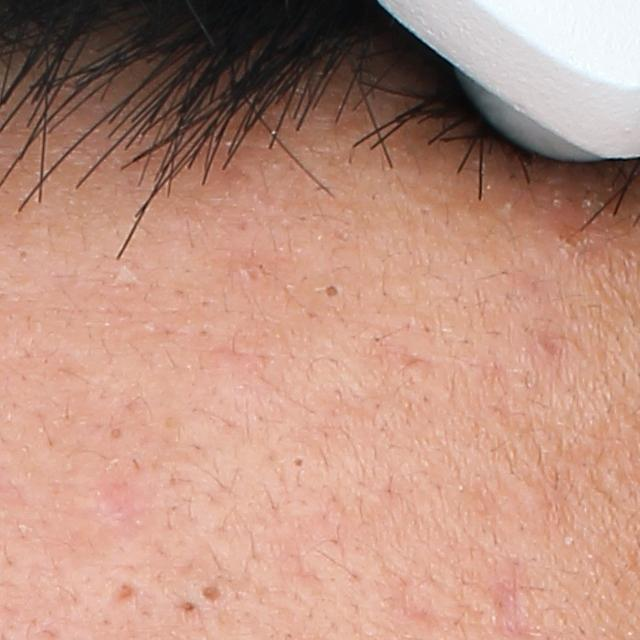atrophic_scar: (391, 585, 448, 639), (106, 577, 141, 606)
comedo: (200, 579, 234, 608), (177, 600, 198, 617), (322, 283, 342, 300), (109, 426, 122, 441)
